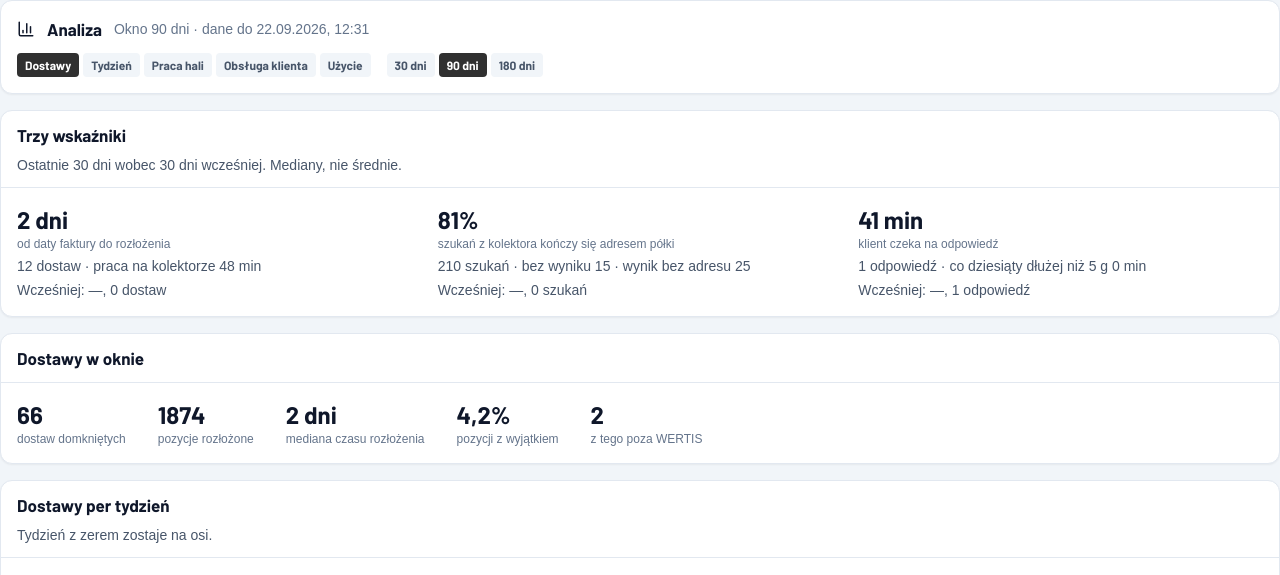
Scenario: Analiza w panelu › wydajność per osoba stoi z podstawą prawną i zdaniem o zgłoszeniach (strażnik z biura)
Click the button "Praca hali".
click(178, 65)  # box [144,53,212,77]
(page scrolled)
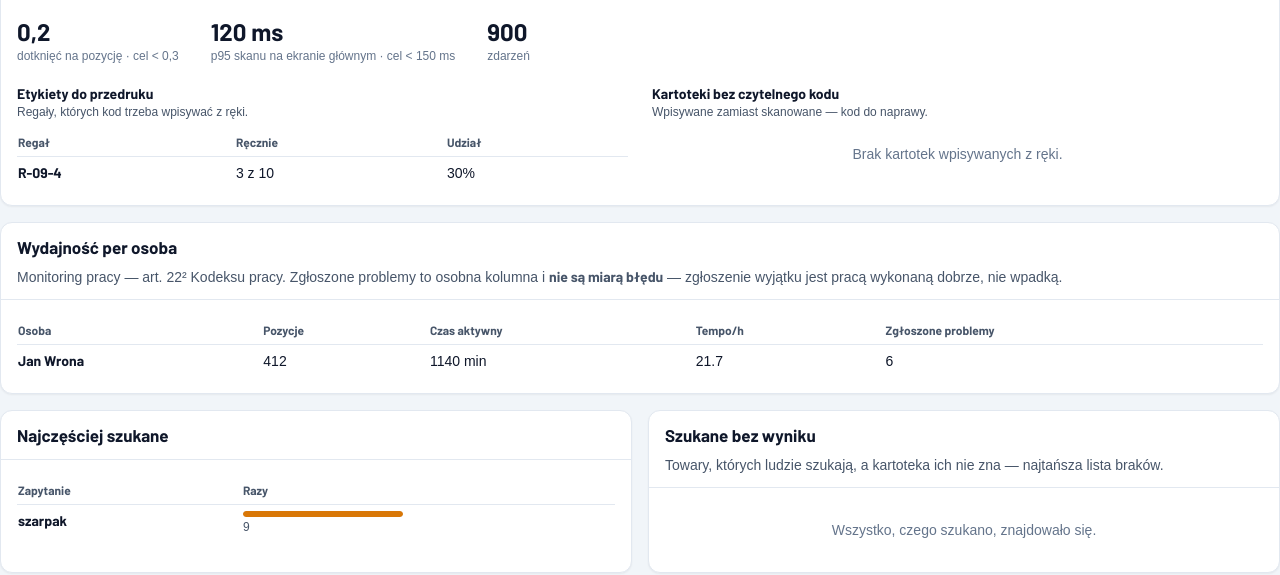
Check: the heading "Wydajność per osoba" is shown, box [17,235,177,259]
Check: the text "art. 22² Kodeksu pracy" is shown, box [17,269,286,285]
Check: the text "nie są miarą błędu" is shown, box [549,268,663,285]
